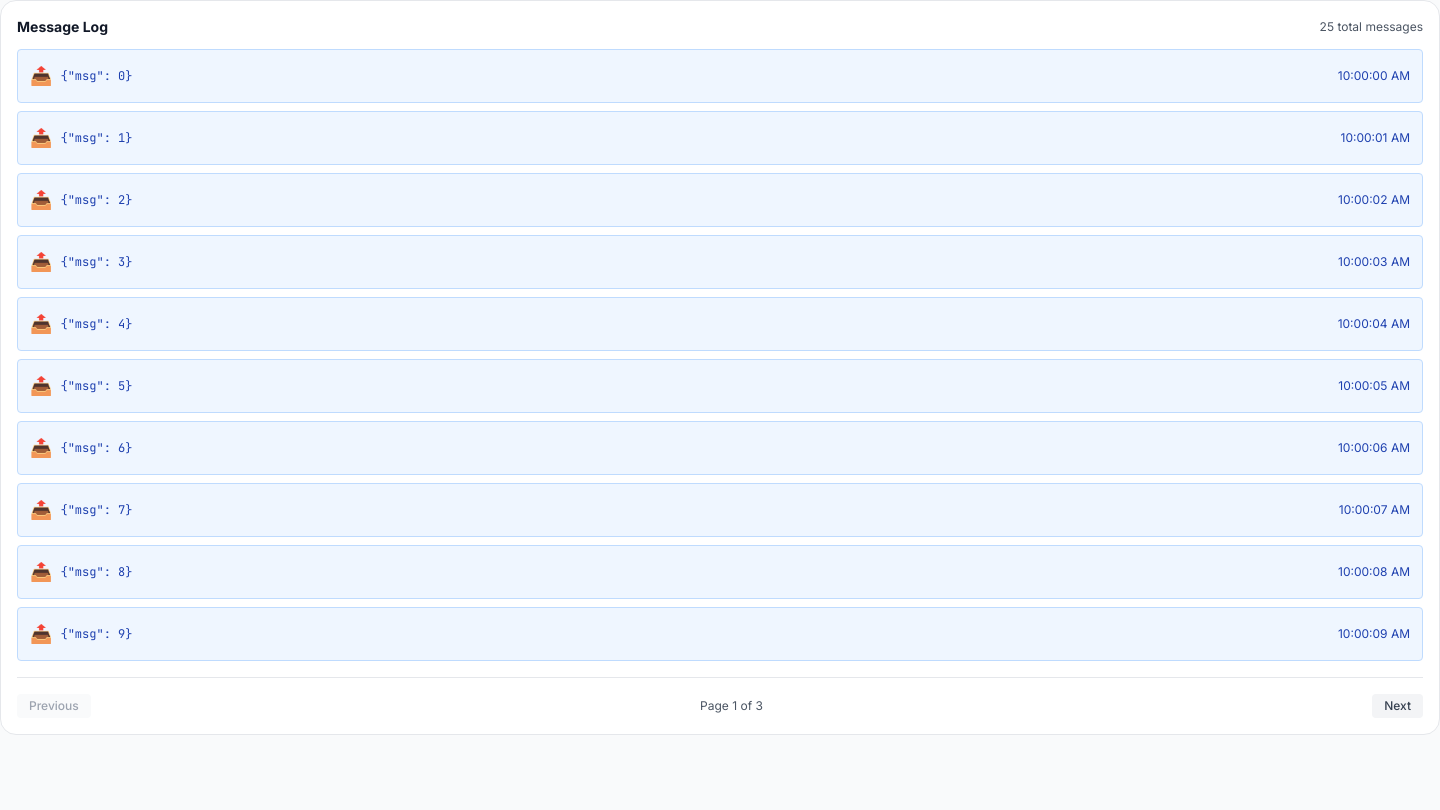
it: MessageLog Component › Pagination › should navigate to previous page
Go to second page
Click the button "Next".
click(1398, 706)  # box [1372,694,1423,718]
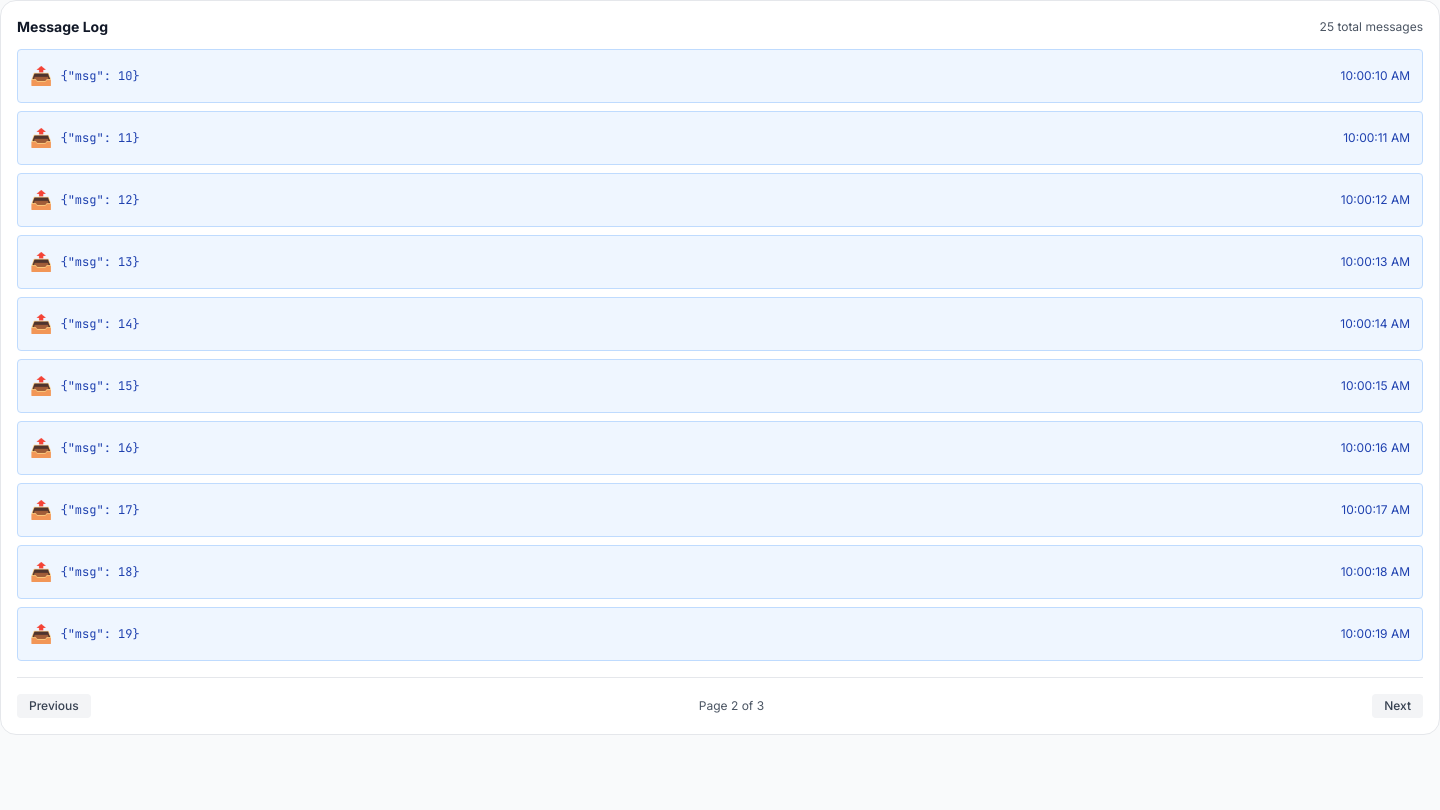
Go back to first page
Click the button "Previous".
click(54, 706)  # box [17,694,91,718]
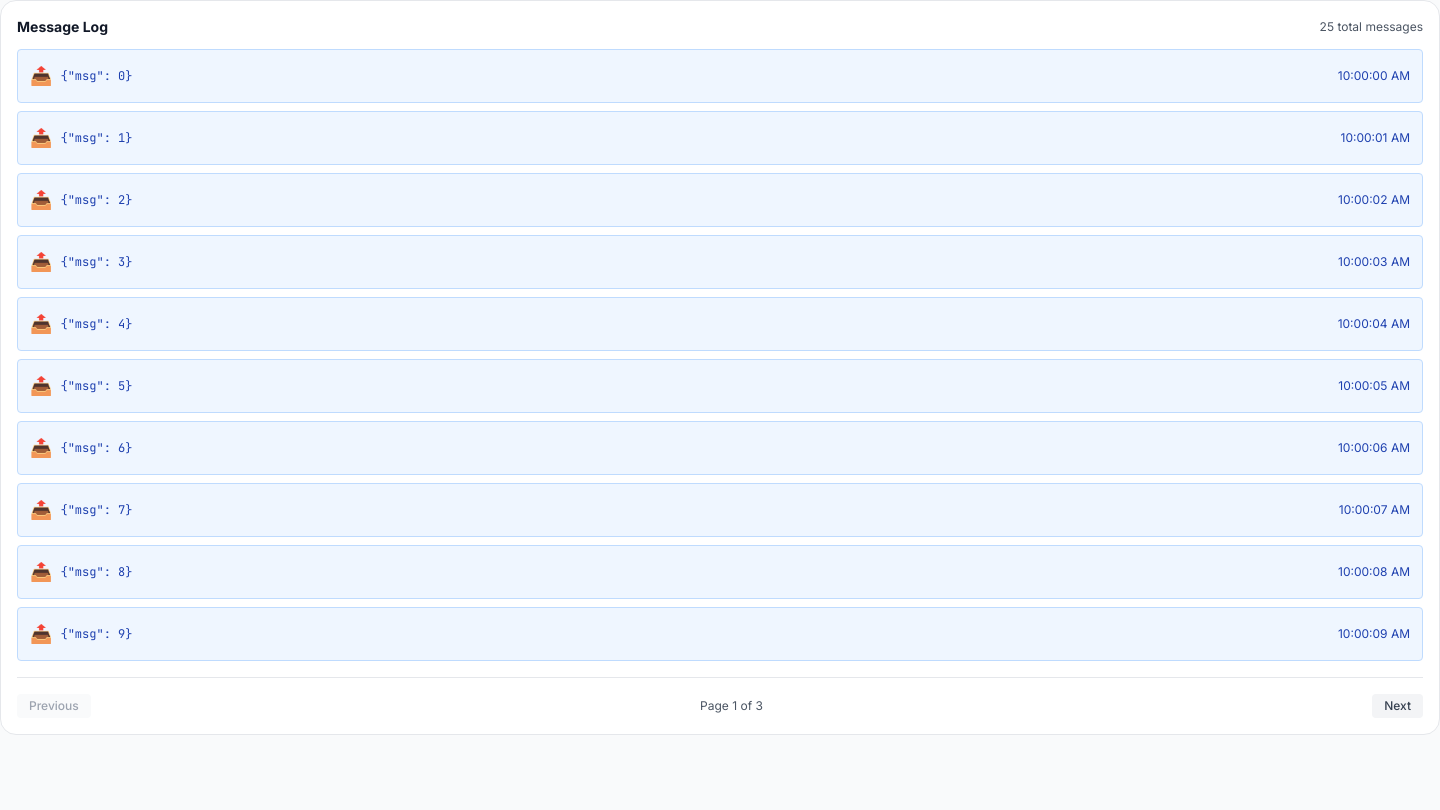
expect the text "{\"msg\": 0}" is shown: met, box [60,68,132,84]
